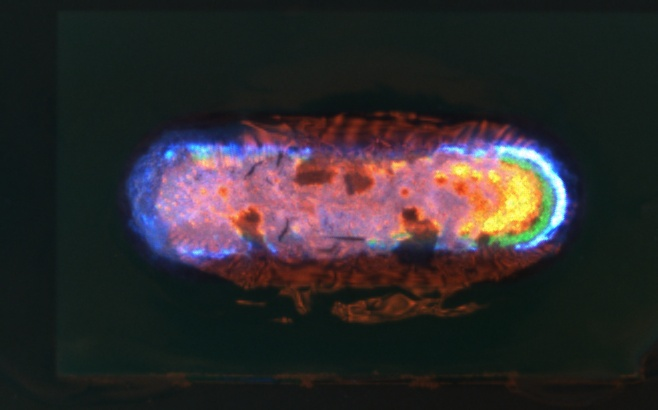virtual_welding: (122, 111, 577, 294)
